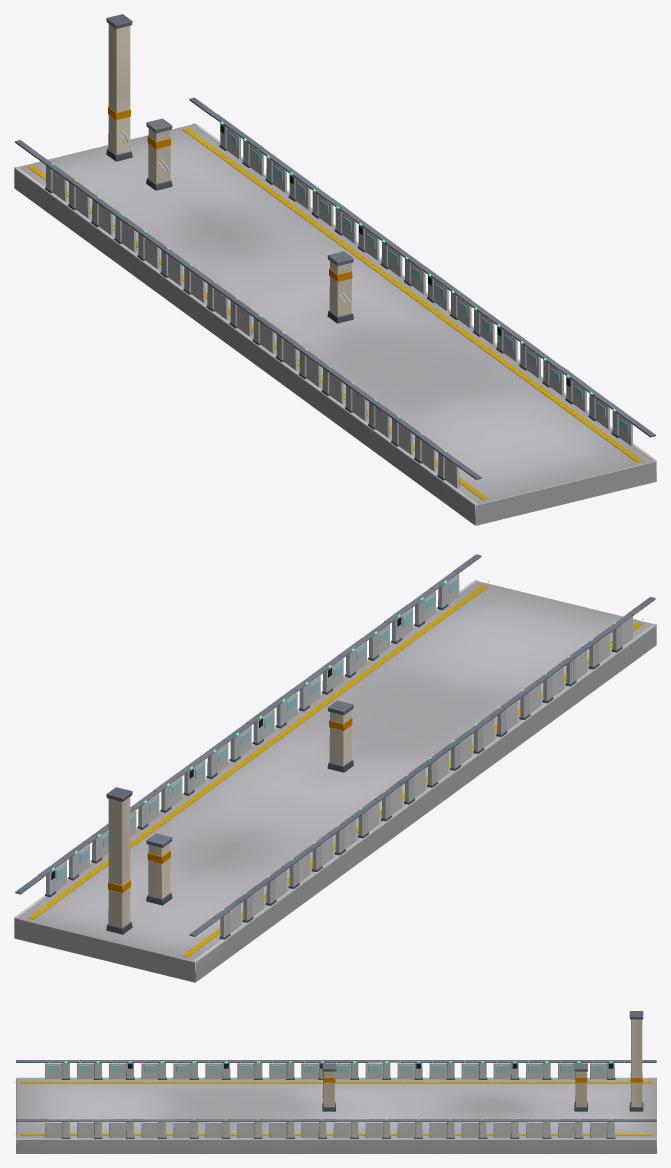
The model's file is island_platform.glb.
3 renders of one model, top to bottom at view 1: azimuth 30°, elevation 25°; view 2: azimuth 150°, elevation 25°; view 3: azimuth 270°, elevation 25°, orthographic. The views are drawn at different scales.
Parts seen in each view (by area): view 1: island_platform; view 2: island_platform; view 3: island_platform.
Part boxes in pixels (x1,y1,x2,y2): island_platform: (14,14,656,525); island_platform: (14,554,656,982); island_platform: (14,1011,656,1153).
Size of the model in its own units: 10 by 8.3 by 44.13.
